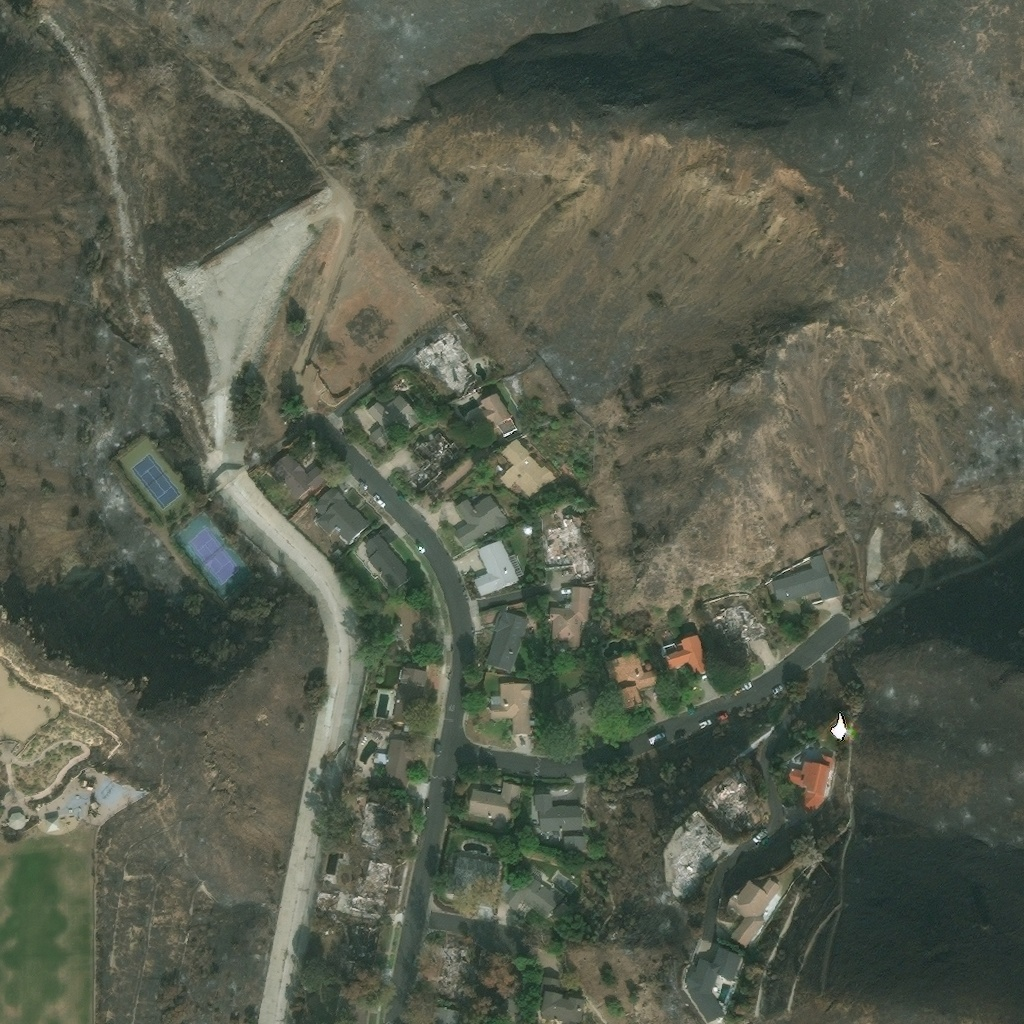0 no-damage: (729, 876, 780, 947), (499, 438, 556, 499), (311, 485, 368, 544), (771, 554, 838, 603), (453, 493, 509, 551), (605, 652, 660, 710), (784, 752, 834, 814), (366, 394, 423, 448), (471, 540, 523, 599), (551, 683, 602, 740), (364, 533, 412, 591), (271, 452, 327, 501), (484, 610, 527, 673), (547, 586, 590, 649), (685, 958, 725, 1022), (489, 681, 535, 736), (374, 736, 419, 792), (356, 799, 406, 849), (506, 875, 562, 919), (659, 632, 712, 678), (467, 781, 523, 822), (540, 974, 585, 1023), (392, 667, 426, 727), (446, 854, 500, 891), (534, 795, 582, 835), (480, 392, 517, 437), (711, 944, 743, 981), (561, 833, 582, 854), (435, 1006, 459, 1023), (7, 813, 25, 831), (44, 819, 60, 834), (454, 782, 466, 798)
3 destroyed: (668, 815, 722, 894), (414, 329, 477, 396), (708, 602, 764, 659), (544, 515, 592, 579), (410, 428, 458, 492), (348, 859, 394, 915), (337, 925, 377, 979), (435, 943, 468, 1006), (708, 784, 749, 827), (317, 890, 334, 907)
